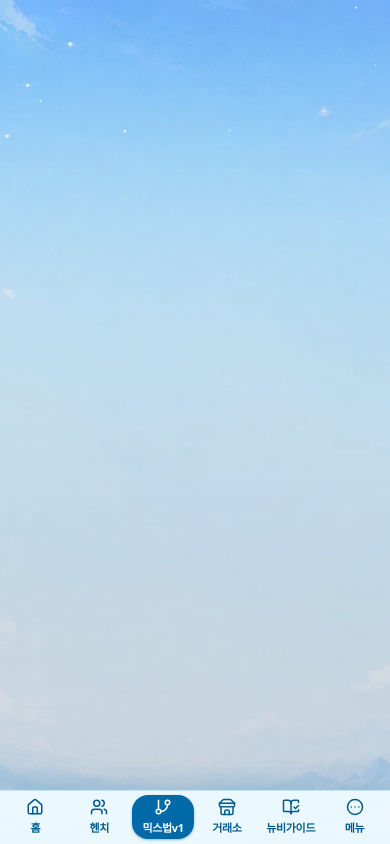
MobileNavigation › shows approved members the primary mobile routes and the full menu
Expected: the navigation bar named "모바일 주요 탐색" is shown, [0,790,389,843]
Expected: the link "거래소" is shown, [212,798,242,835]
What coordinates should you click on to do the following:
click the button with aria-label "전체 메뉴"
I would click on:
 (354, 817)
Its box is [323,795,386,839].
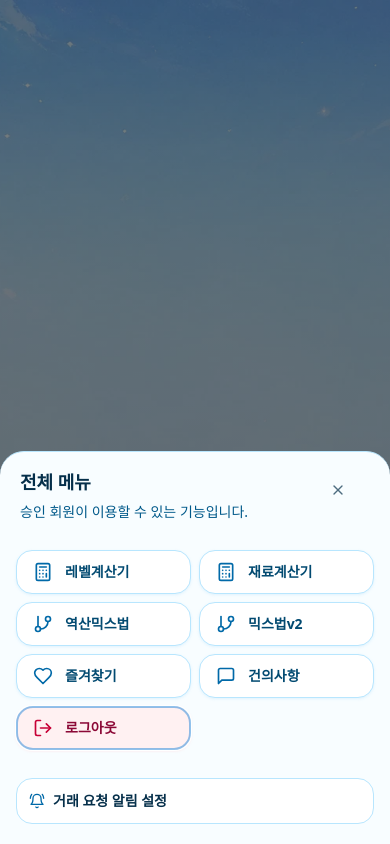
Result: the link "레벨계산기" is shown at [16,550,191,594]
Result: the link "역산믹스법" is shown at [16,602,191,646]
